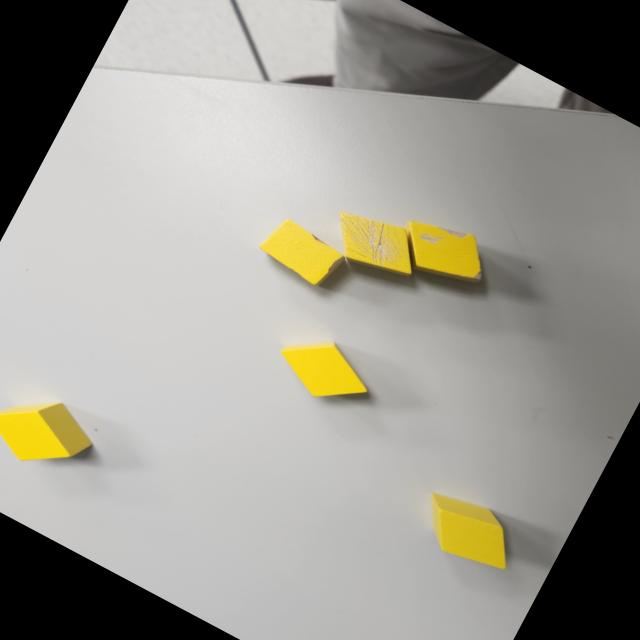broken: (319, 199, 426, 289), (388, 205, 493, 295), (254, 212, 346, 291)
yellow: (406, 478, 528, 583), (0, 372, 103, 489), (267, 320, 381, 418)
